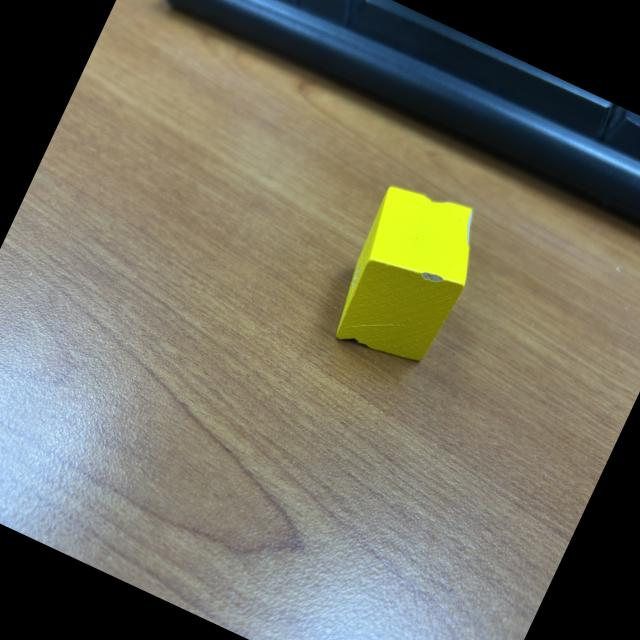broken: (319, 172, 496, 380)
